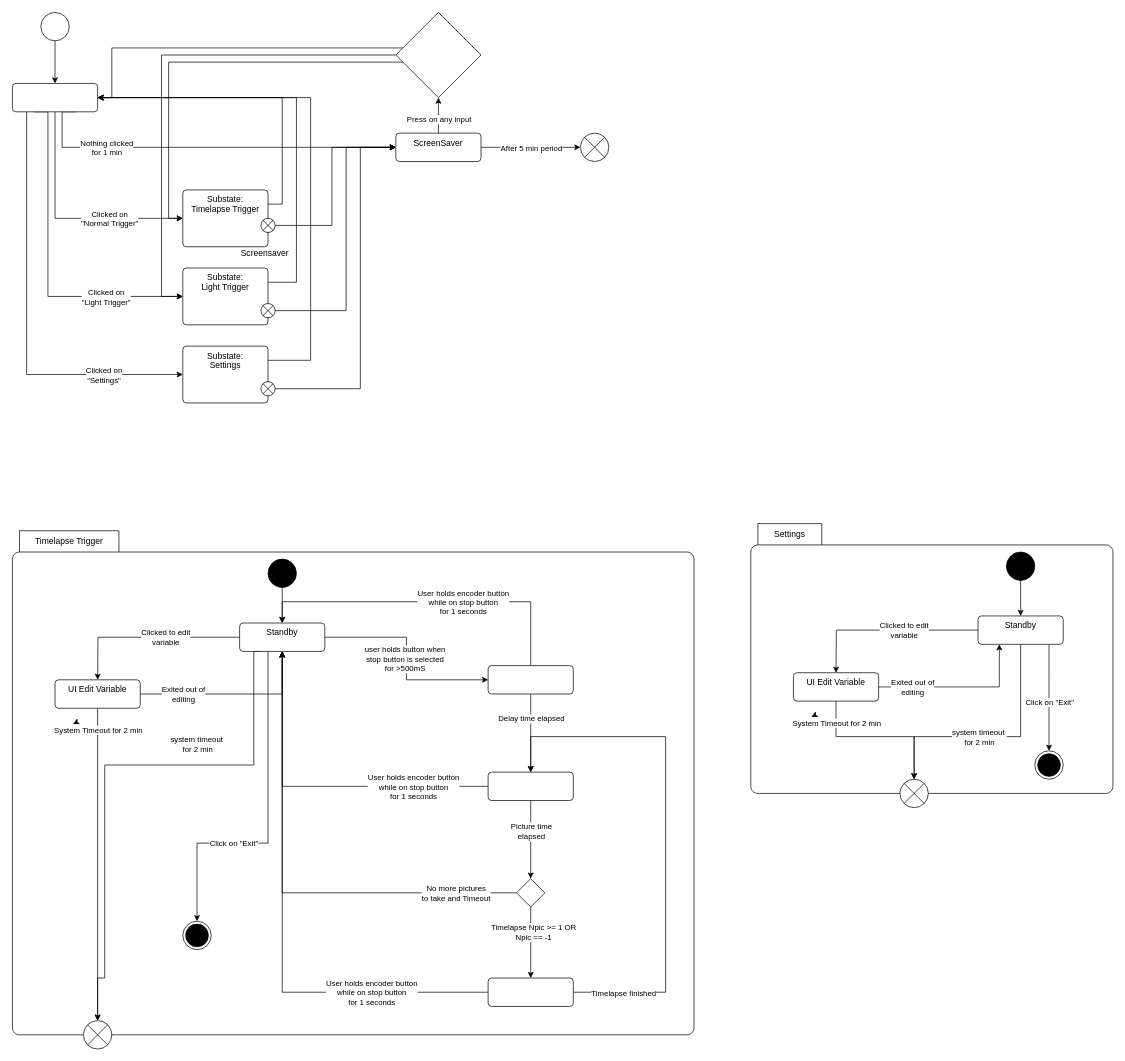
The diagram is 1125 pixels wide and 1061 high, and some of its shapes have lost their labels. The shapes that lost their labels are listed below. From the top down, each one's centre as x and y in pixels, then its label:
(438,55): Based on what entered into screensave
(55,97): Home Screen
(530,679): Armed
(530,786): Triggered
(530,991): Timelapse Wait
